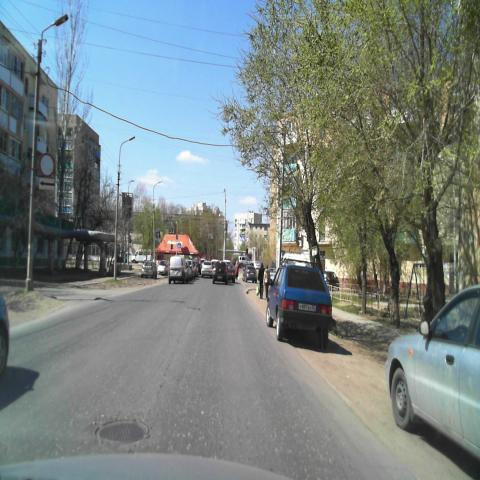3_2: (39, 152, 55, 178)
8_3_2: (38, 179, 56, 190)
